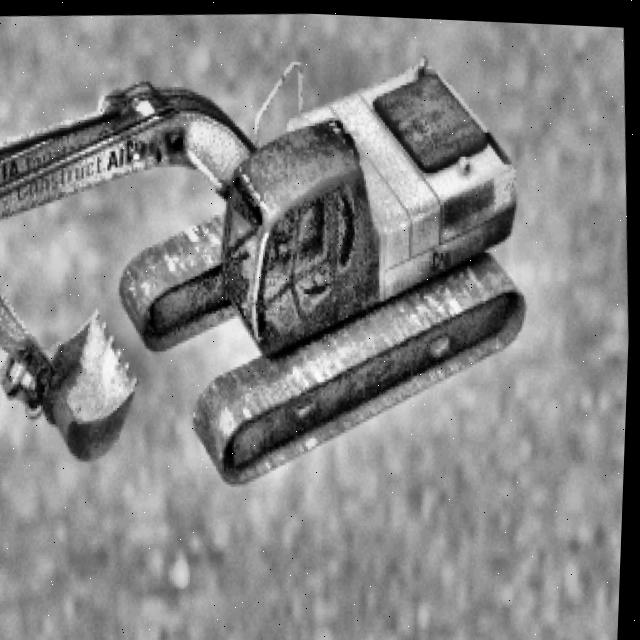excavator: (0, 29, 542, 502)
